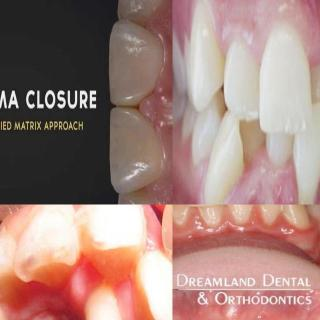maligned: (258, 18, 313, 132), (182, 0, 227, 108), (201, 117, 251, 205), (290, 110, 320, 204), (74, 282, 140, 320), (234, 107, 268, 164)
plaque: (15, 204, 83, 233), (172, 204, 192, 230)
